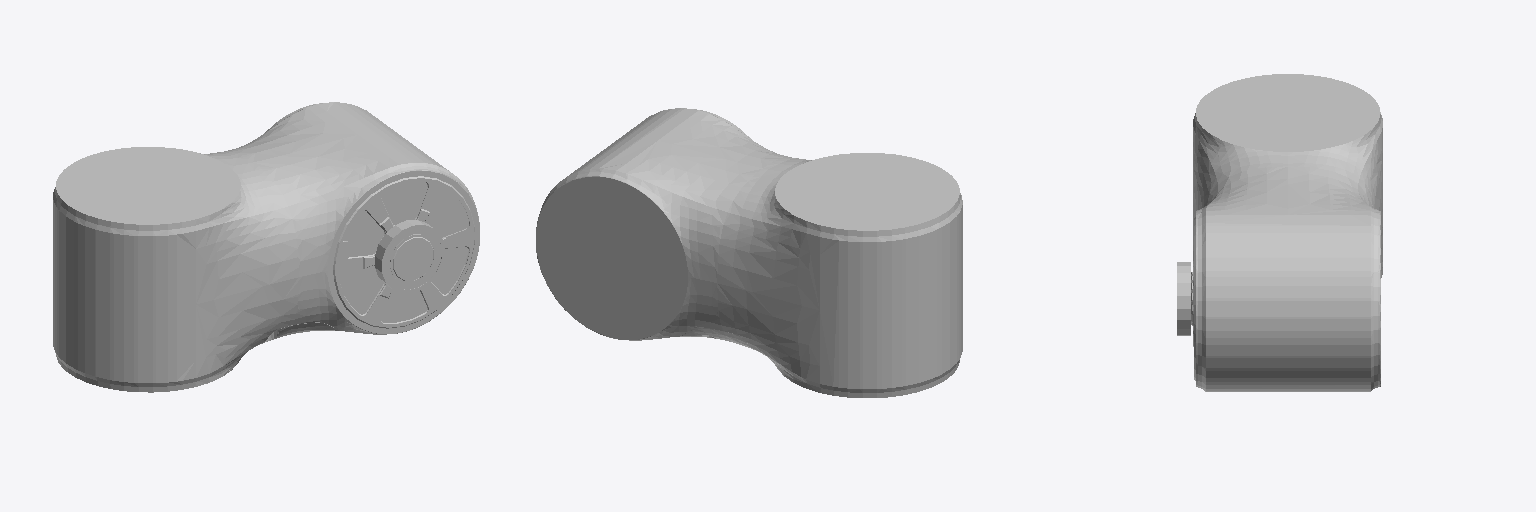
The picture shows the model from 3 angles: view 1: azimuth 30°, elevation 25°; view 2: azimuth 150°, elevation 25°; view 3: azimuth 270°, elevation 25°; orthographic projection.
Parts seen in each view (by area): view 1: left_wrist_pitch_link; view 2: left_wrist_pitch_link; view 3: left_wrist_pitch_link.
Part boxes in pixels (x1,y1,x2,y2): left_wrist_pitch_link: (53, 102, 479, 392); left_wrist_pitch_link: (536, 108, 962, 397); left_wrist_pitch_link: (1177, 74, 1382, 391).
Bounding box in the file's own units: 0.151 × 0.0717 × 0.0727.